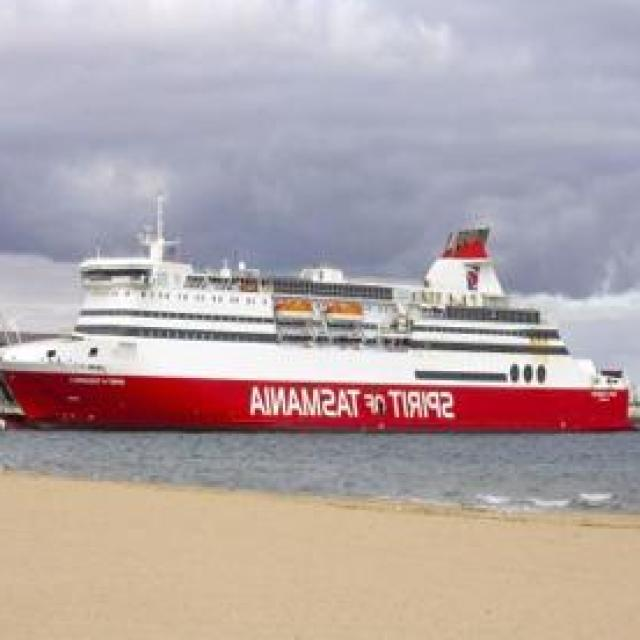passenger ship: (1, 202, 630, 429)
